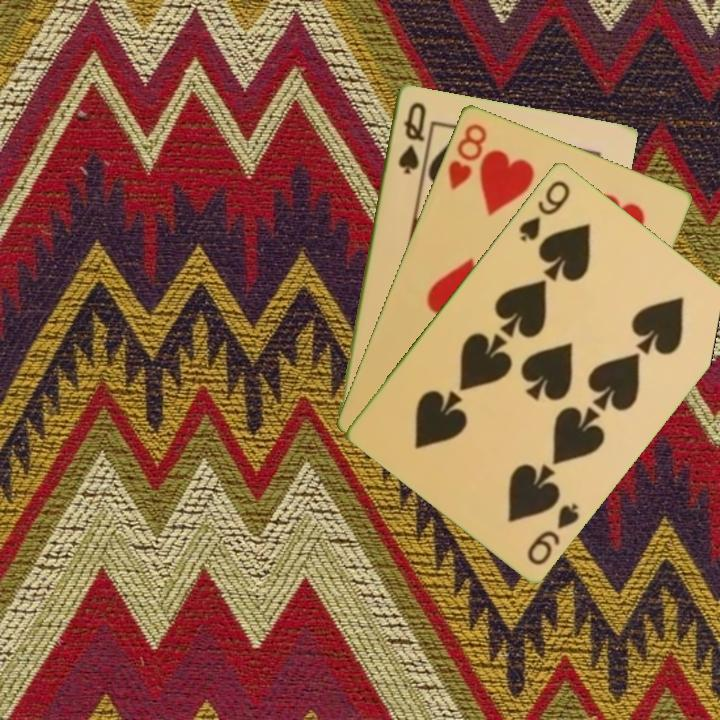8h: (444, 119, 490, 193)
9s: (523, 498, 582, 568), (515, 176, 573, 245)
Qs: (394, 98, 429, 177)
